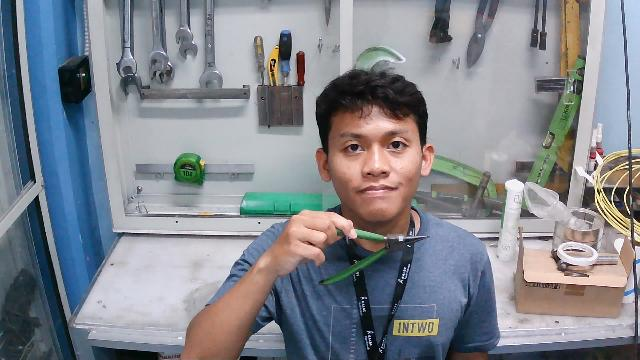tang_cucut_lancip_2: (307, 211, 436, 294)
